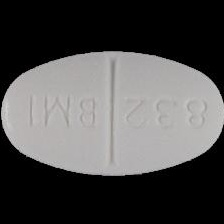52125-073: (0, 0, 224, 224)
